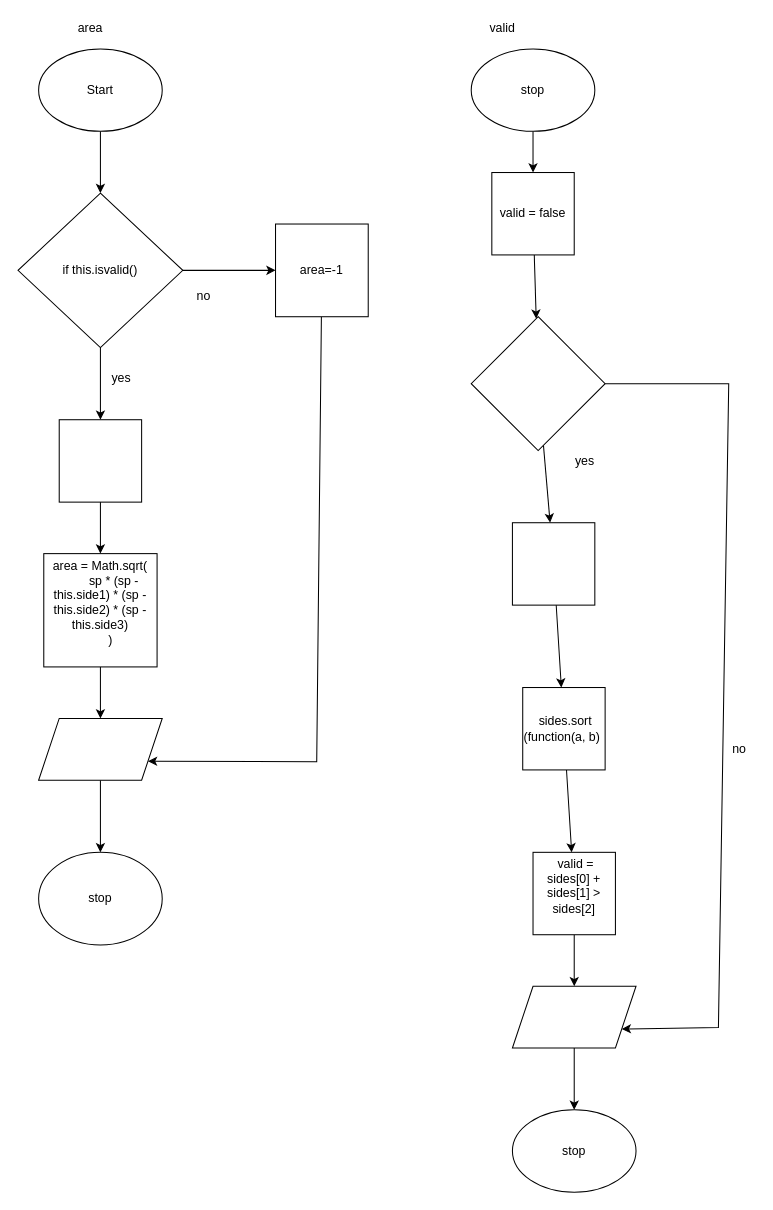
This 773x1210 diagram has some shape labels left out. Here are the shapes that lost their labels. From the top down, the centre of each, then its label:
At point (537, 383): "if (!(Math.min(...sides) < 0)) {".
At point (100, 460): "sp = this.semi Perimeter()".
At point (553, 563): "const sides = [this.side1, this.side2, this.side3]".
At point (100, 748): "return area".
At point (573, 1016): "retuen valid".
